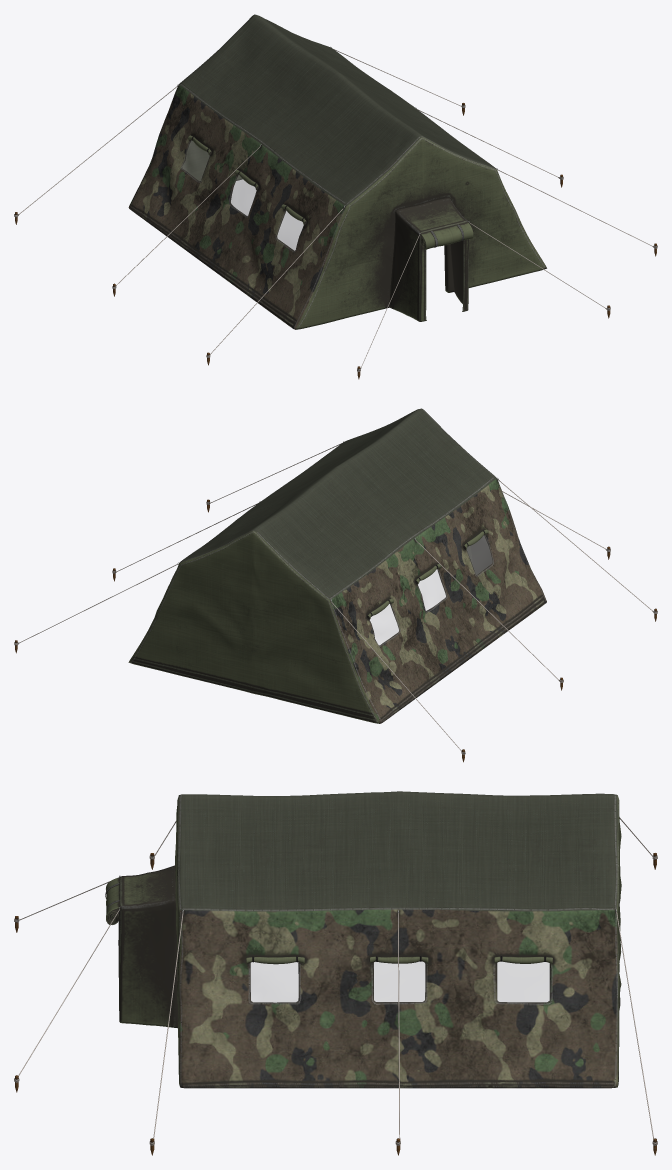
The model's file is tent_military.glb.
3 views of the same model, one above another, from view 1: azimuth 30°, elevation 25°; view 2: azimuth 150°, elevation 25°; view 3: azimuth 270°, elevation 25° (orthographic). The views are drawn at different scales.
Visible parts, largest first — view 1: Military_tent; view 2: Military_tent; view 3: Military_tent.
Part boxes in pixels (x1,y1,x2,y2): Military_tent: (14,14,657,379); Military_tent: (14,408,657,762); Military_tent: (14,791,657,1155).
Bounding box in the file's own units: 11.17 × 4 × 10.55.
2 materials, 1 textured.
